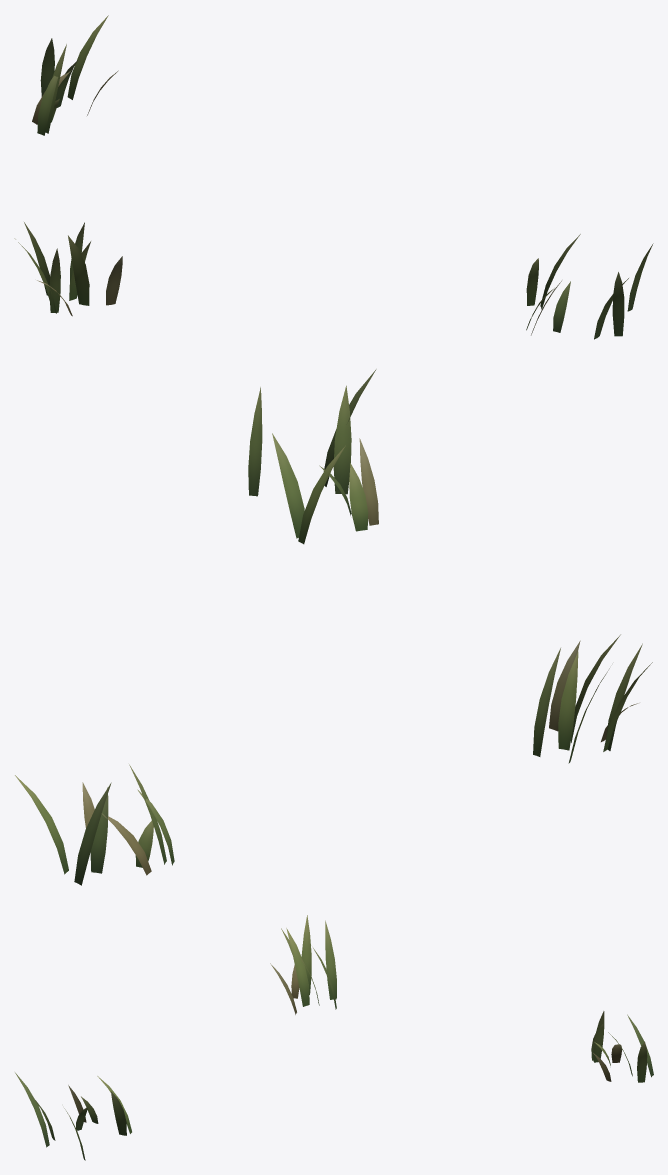
The model's file is woodland_undergrass.gltf.
3 views of the same model, one above another, from view 1: azimuth 30°, elevation 25°; view 2: azimuth 150°, elevation 25°; view 3: azimuth 270°, elevation 25° (orthographic). The views are drawn at different scales.
Visible parts, largest first — view 1: woodland_undergrass; view 2: woodland_undergrass; view 3: woodland_undergrass.
Boxes of the visible parts, x1,y1,x2,y2 form: woodland_undergrass: [14, 15, 653, 339]; woodland_undergrass: [15, 369, 652, 885]; woodland_undergrass: [15, 915, 653, 1160].
Bounding box in the file's own units: 0.6615 × 0.1143 × 0.9748.
Materials: 3 (3 with a texture image).
